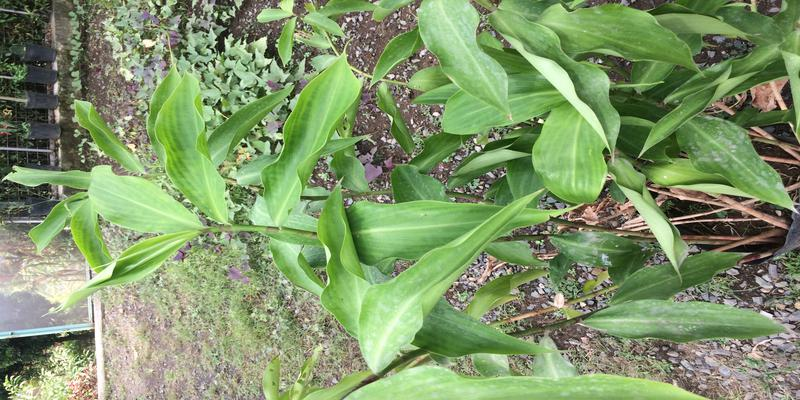Insulin: (410, 8, 789, 306)
